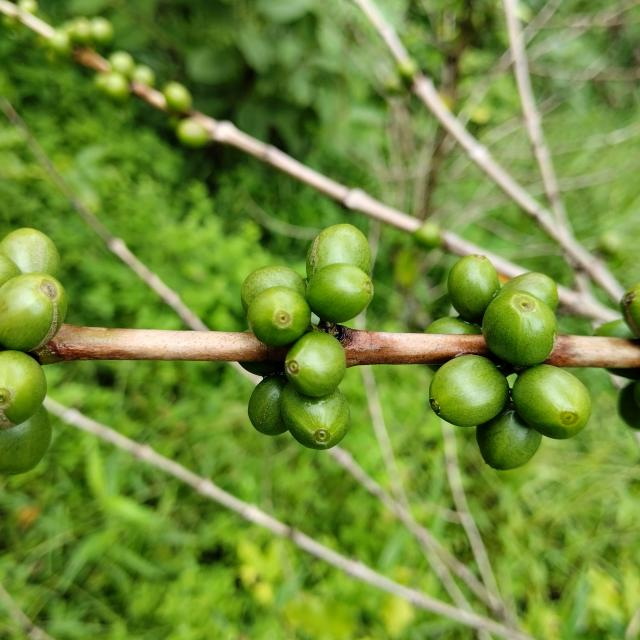green: (512, 365, 592, 440), (483, 290, 559, 367), (430, 355, 510, 427), (0, 272, 66, 352), (280, 382, 351, 450), (477, 404, 543, 471), (306, 263, 374, 323), (285, 331, 346, 397), (247, 287, 311, 347), (306, 223, 371, 280), (0, 351, 46, 430), (0, 406, 51, 476), (448, 254, 501, 321), (241, 266, 307, 312), (0, 228, 60, 277), (248, 374, 288, 436), (499, 272, 559, 311), (424, 316, 483, 334), (0, 253, 20, 287)
